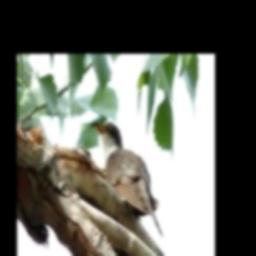Cuckoo: (91, 121, 163, 238)
